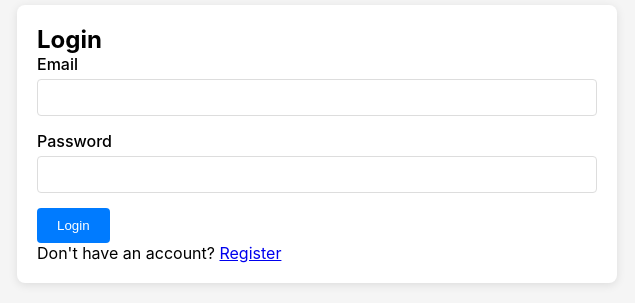
it: Login Component › disables form during submission
This screenshot has width=635, height=303.
Type "test@example.com" into the field labelled "Email" at x=317, y=98, box [37,79,597,116]
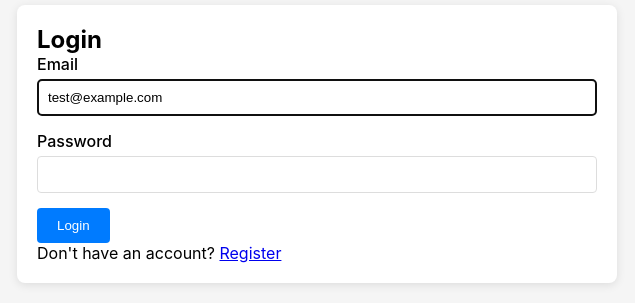
Type "password123" into the password field labelled "Password" at x=317, y=174, box [37,156,597,193]
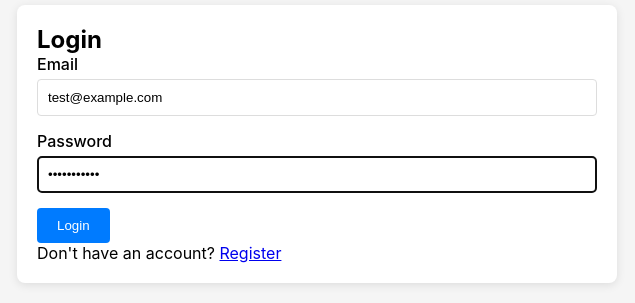
Click the button "Login" at x=73, y=226, box [37,208,110,243]
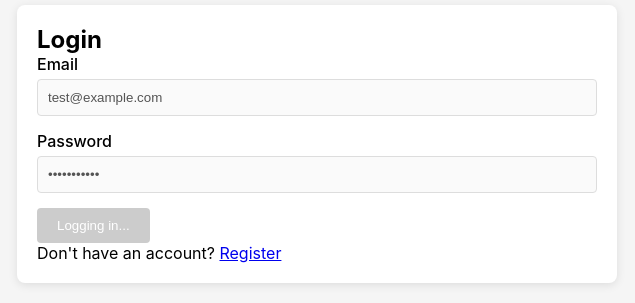
Expected: the button named "login" is disabled, [37,208,150,243]
Expected: the field labelled "Email" is disabled, [37,79,597,116]
Expected: the password field labelled "Password" is disabled, [37,156,597,193]
